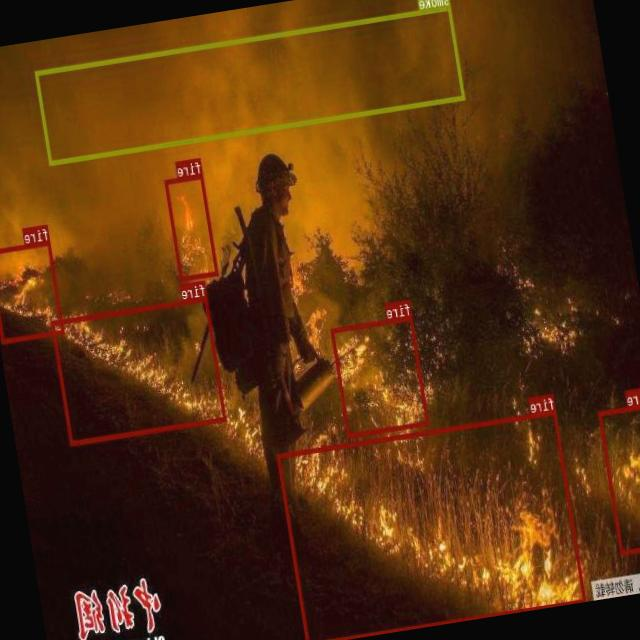fire: (278, 408, 587, 640), (51, 296, 227, 444), (332, 316, 429, 436), (0, 239, 65, 342), (598, 402, 640, 555), (166, 173, 220, 281)
smoke: (36, 4, 467, 164)
